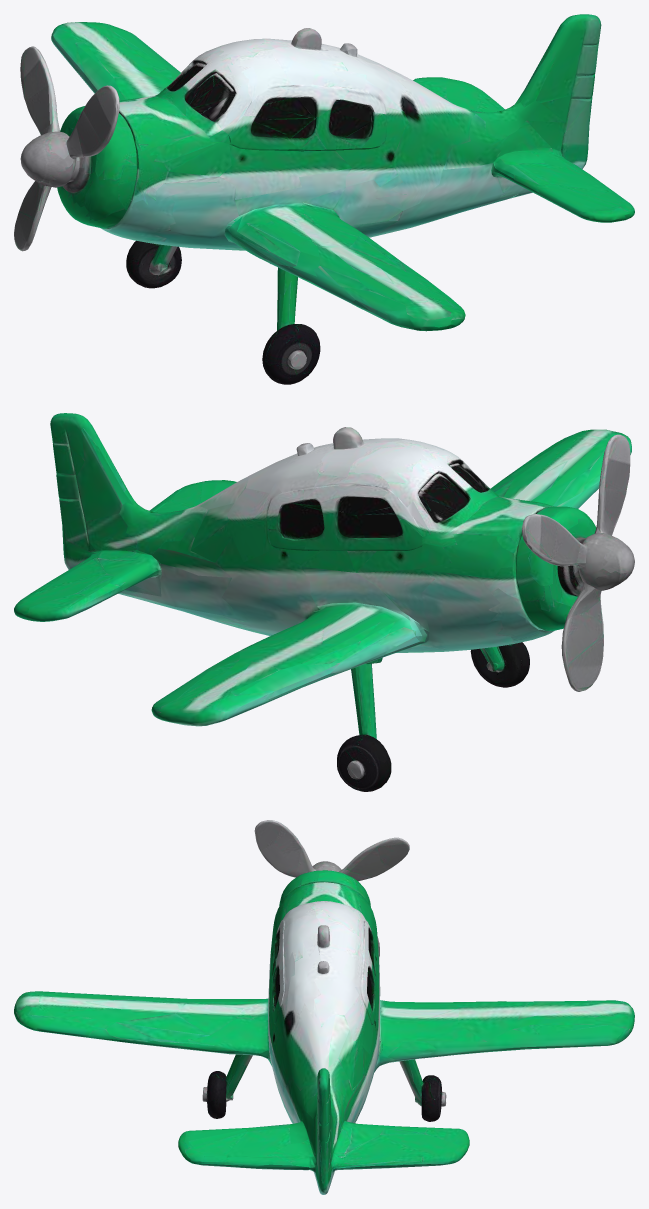
Rendered from token_plane.glb.
3 views of the same model, one above another, from view 1: azimuth 30°, elevation 25°; view 2: azimuth 150°, elevation 25°; view 3: azimuth 270°, elevation 25° (orthographic). The views are drawn at different scales.
Size of the model in its own units: 1.6 by 0.8233 by 1.9.
Materials: 1 (1 with a texture image).
